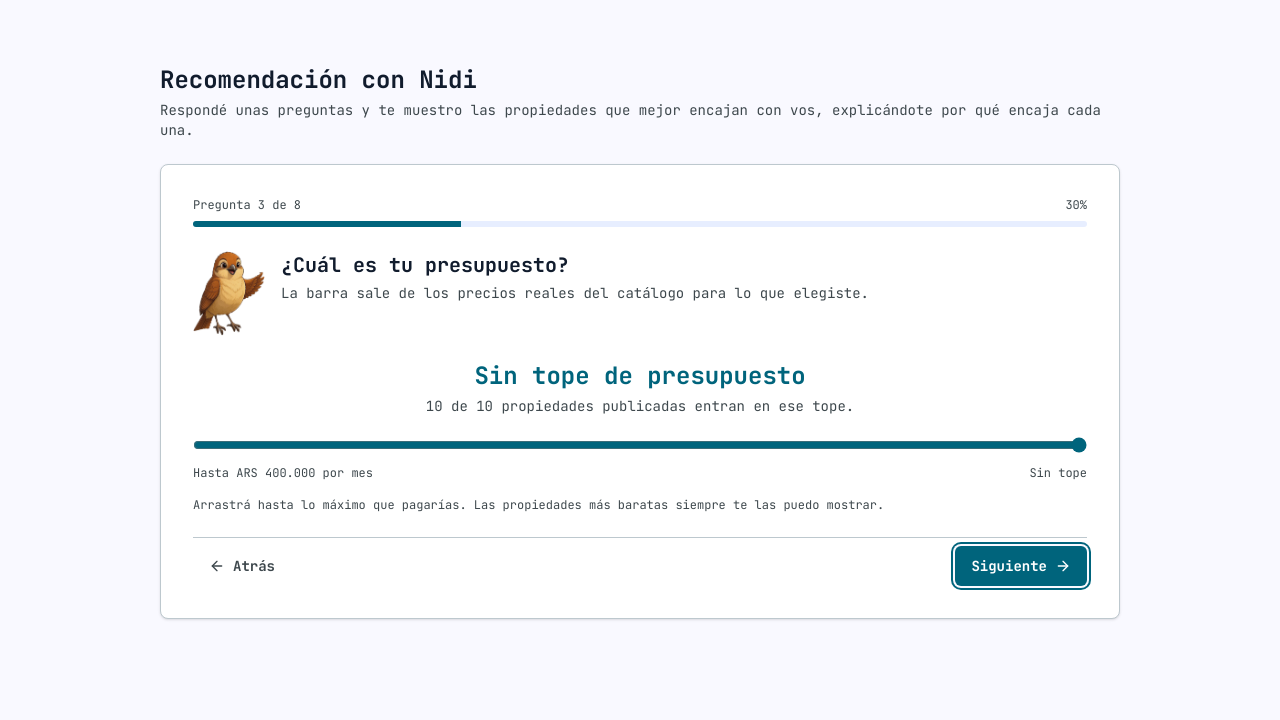
Scenario: Recomendador › walks the 8 questions, skips the optional steps and shows the recommendation without scores
Earlier steps of the test are not shown.
Later steps or results of the test are not shown.
Expected: the text "Sin tope de presupuesto" is shown, [474,360,806,391]
Expected: the text "10 de 10 propiedades publicadas entran en ese tope." is shown, [426,397,854,415]
Set the slider named "presupuesto máximo" to "50" at (640, 445), box [193,441,1087,449]
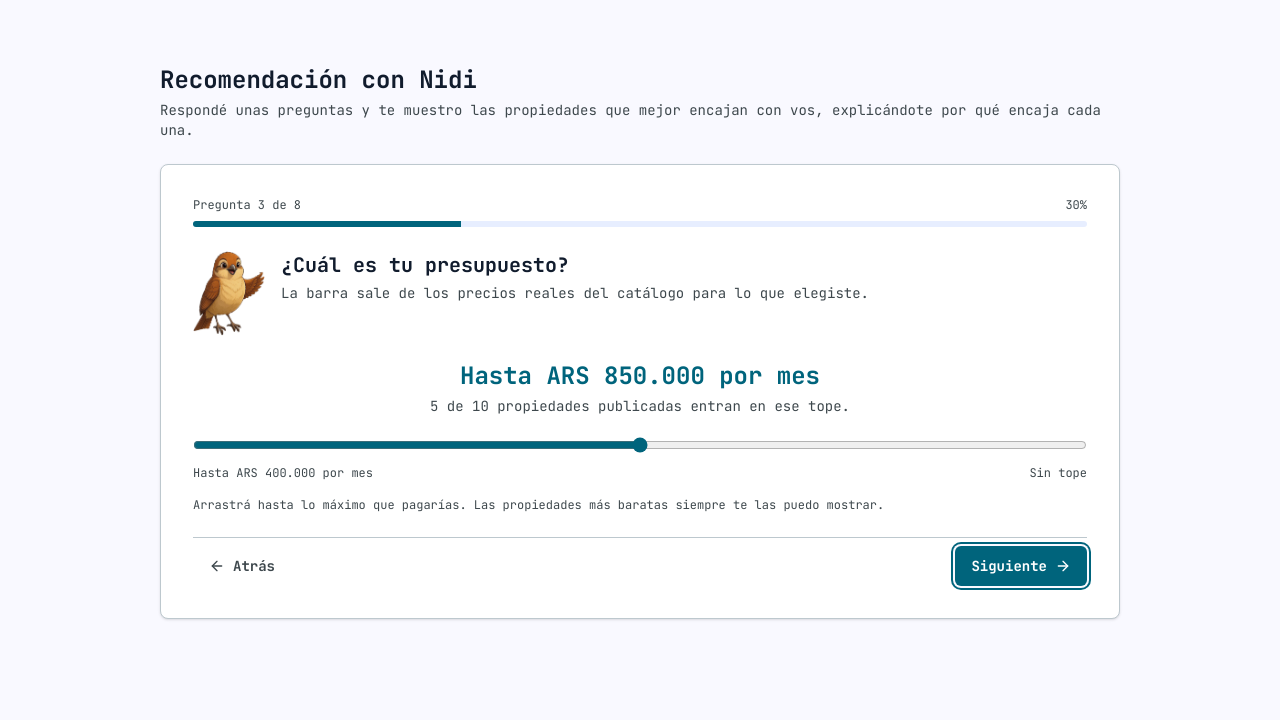
Result: the text "Hasta ARS 850.000 por mes" is shown at [460,360,820,391]
Result: the text "5 de 10 propiedades publicadas entran en ese tope." is shown at [430,397,850,415]
Click the button "Siguiente".
click(1021, 566)  # box [955,546,1087,586]
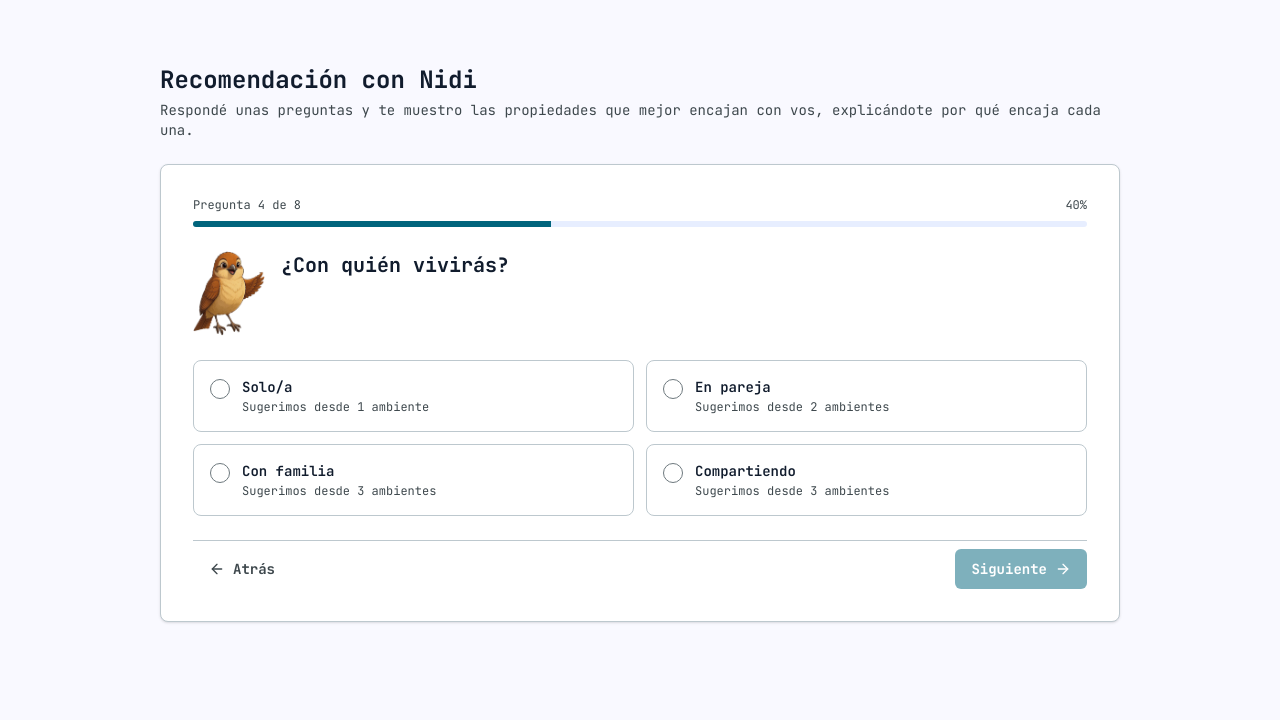
Click the radio button labelled "En pareja Sugerimos desde 2 ambientes".
click(733, 387)  # box [646,360,1087,432]
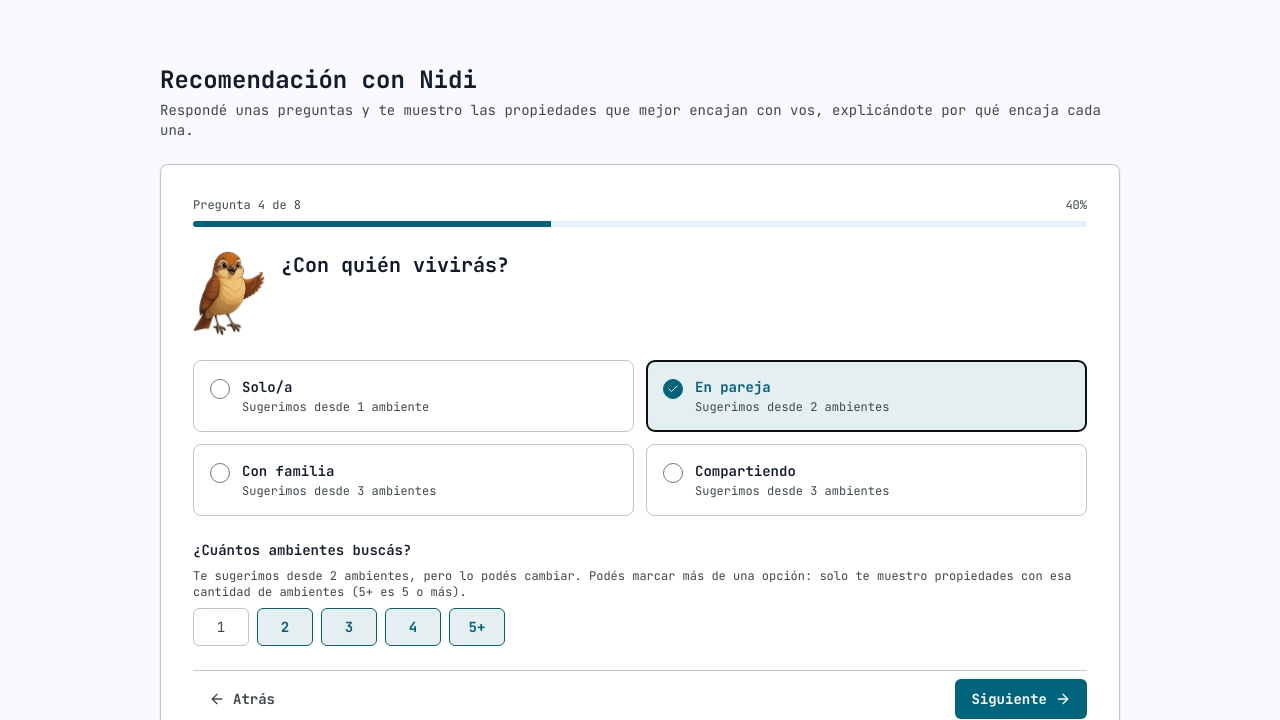
Click the button named "2 ambientes".
click(285, 627)  # box [257,608,313,646]
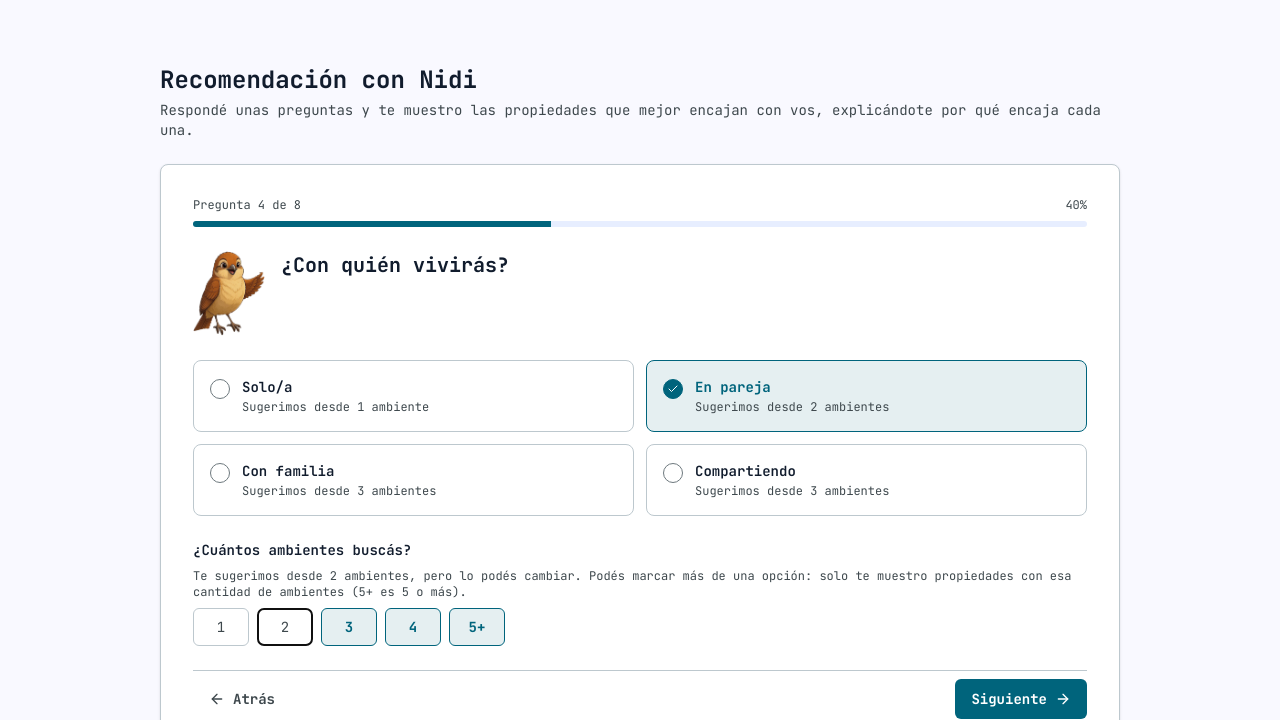
Click the button named "4 ambientes".
click(413, 627)  # box [385,608,441,646]
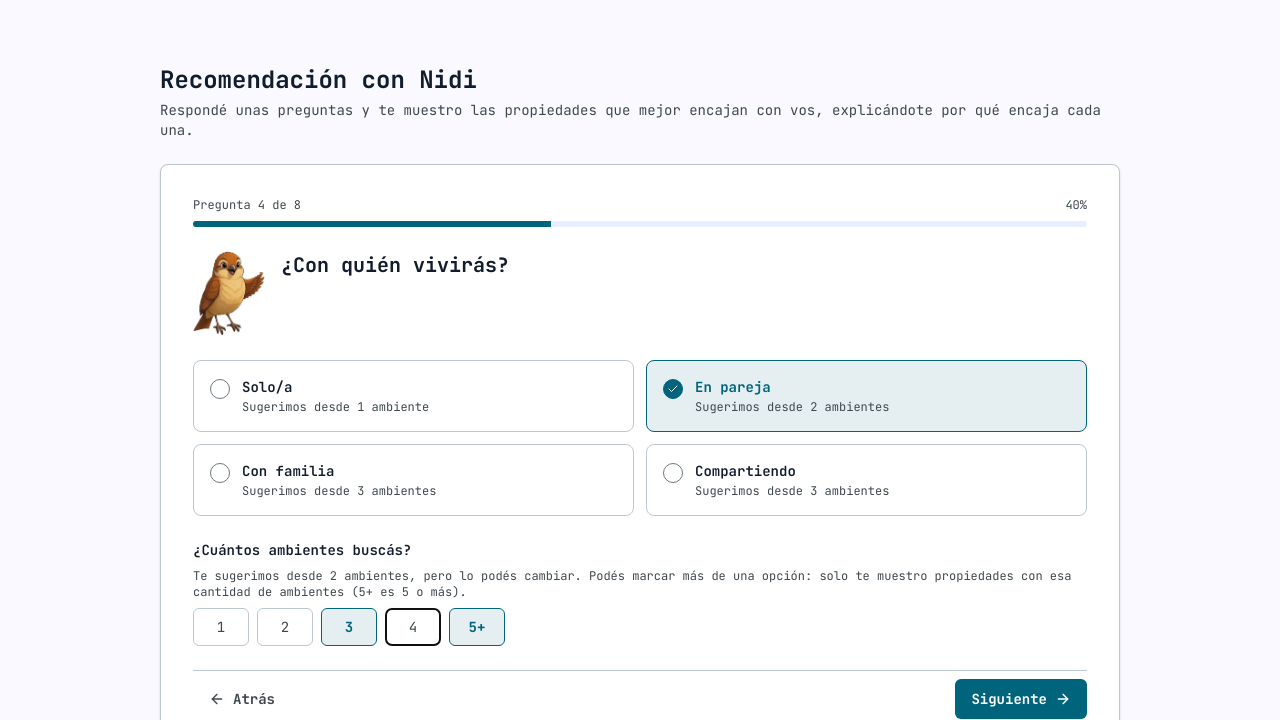
Click the button named "5+ ambientes".
click(477, 627)  # box [449,608,505,646]
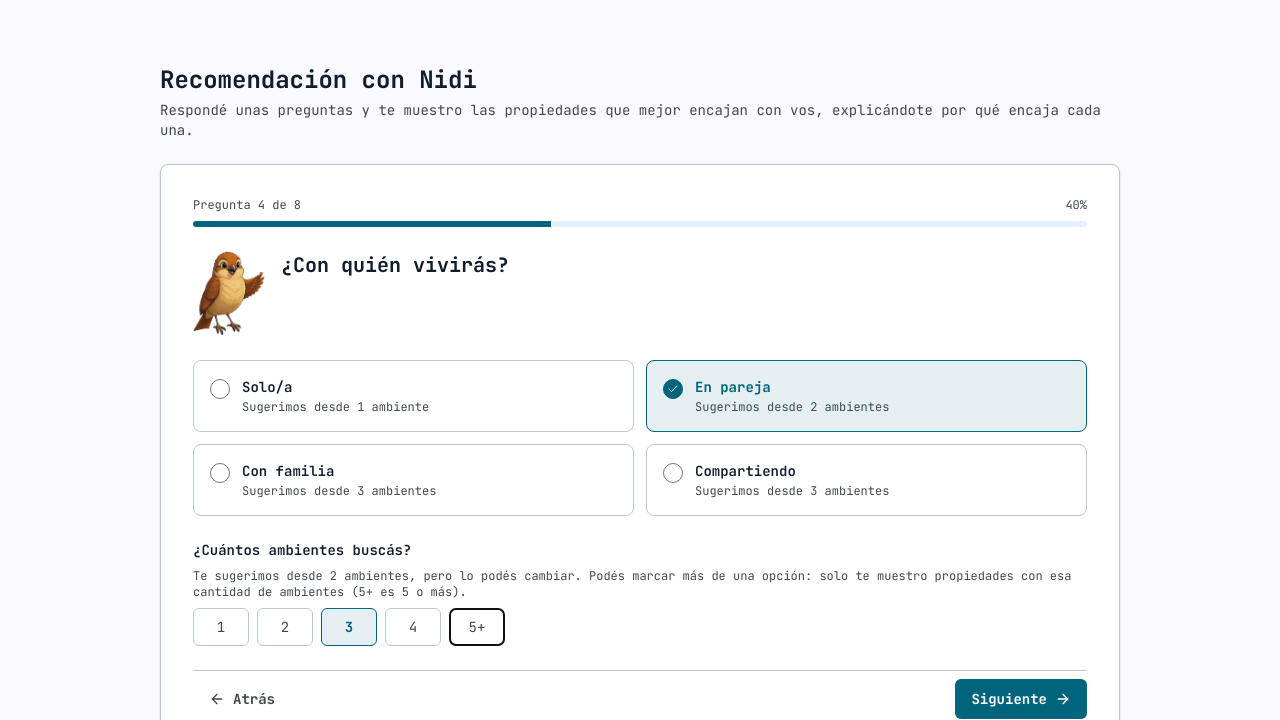
Result: the button named "2 ambientes" is not pressed at [257,608,313,646]
